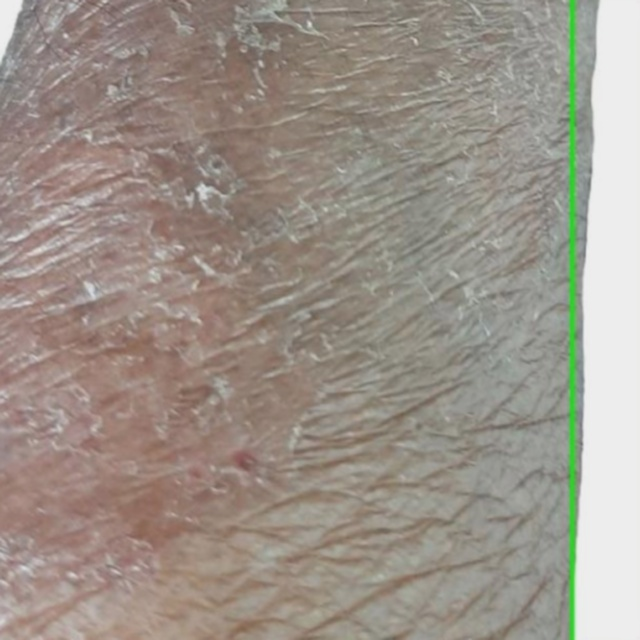Tinea Corporis: (572, 0, 639, 639)
